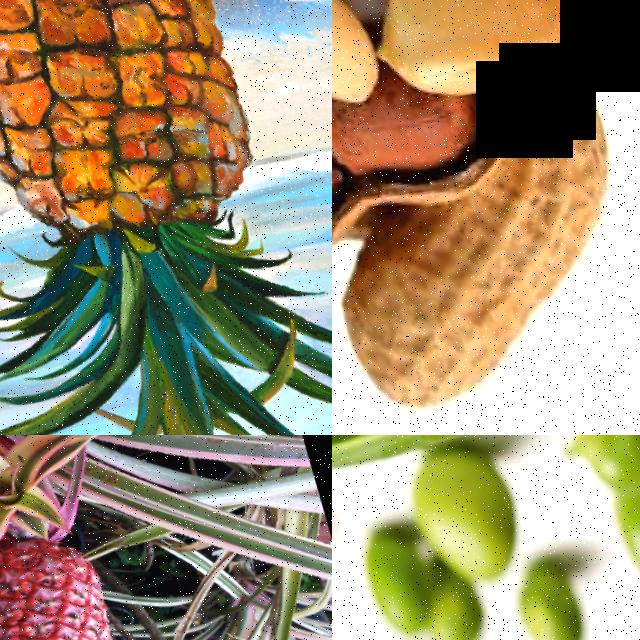peanuts: (332, 190, 597, 422), (358, 0, 591, 112)
pineapple: (0, 0, 303, 348), (0, 524, 144, 640)
